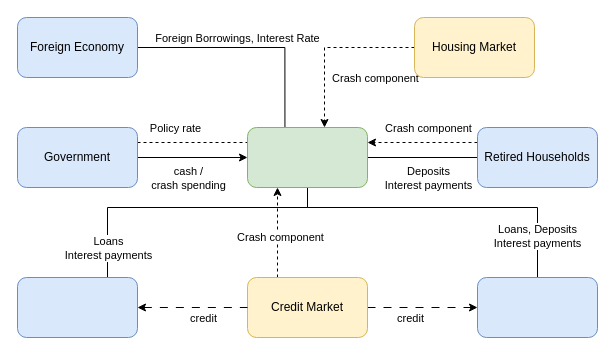
Image size: 615x355. Some labels were removed from this diagram. Here are the shapes that lost their labels. From the top down, the centre of each, then its label:
At pixel 307 157: "Banks".
At pixel 77 307: "Firms".
At pixel 537 307: "Young Households".
